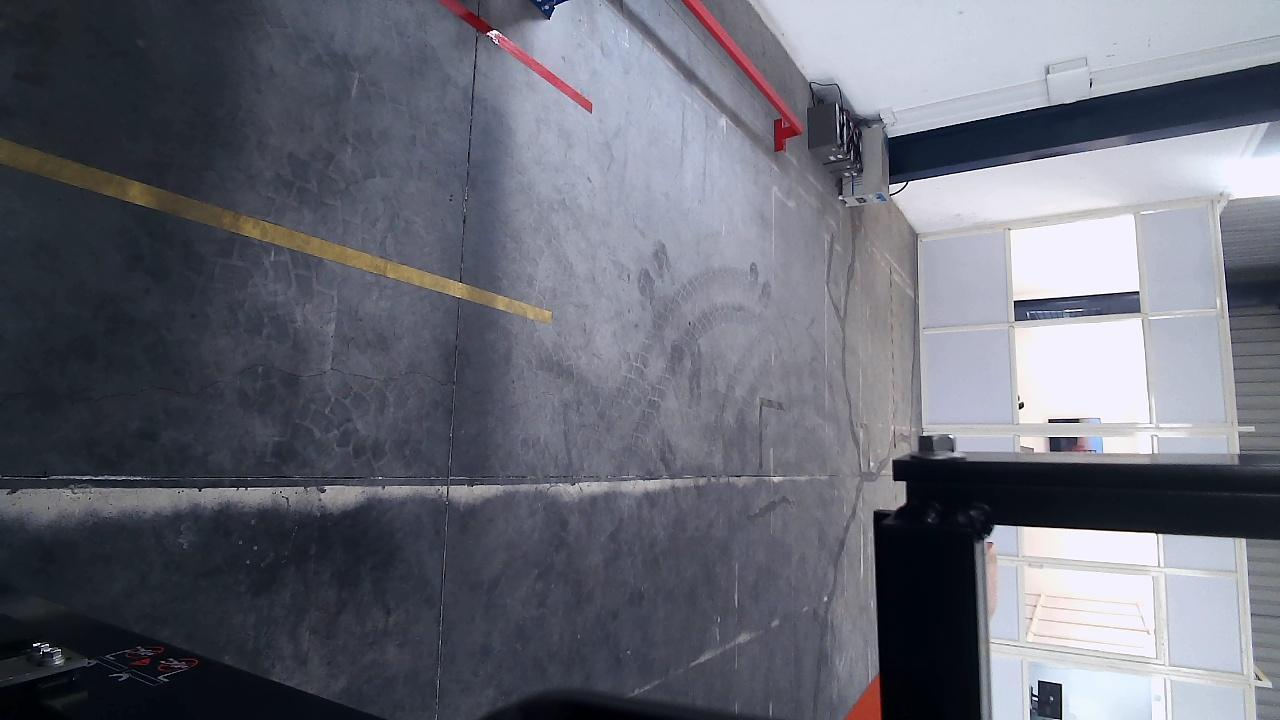red_line: (436, 0, 593, 111)
yellow_line: (0, 137, 552, 323)
